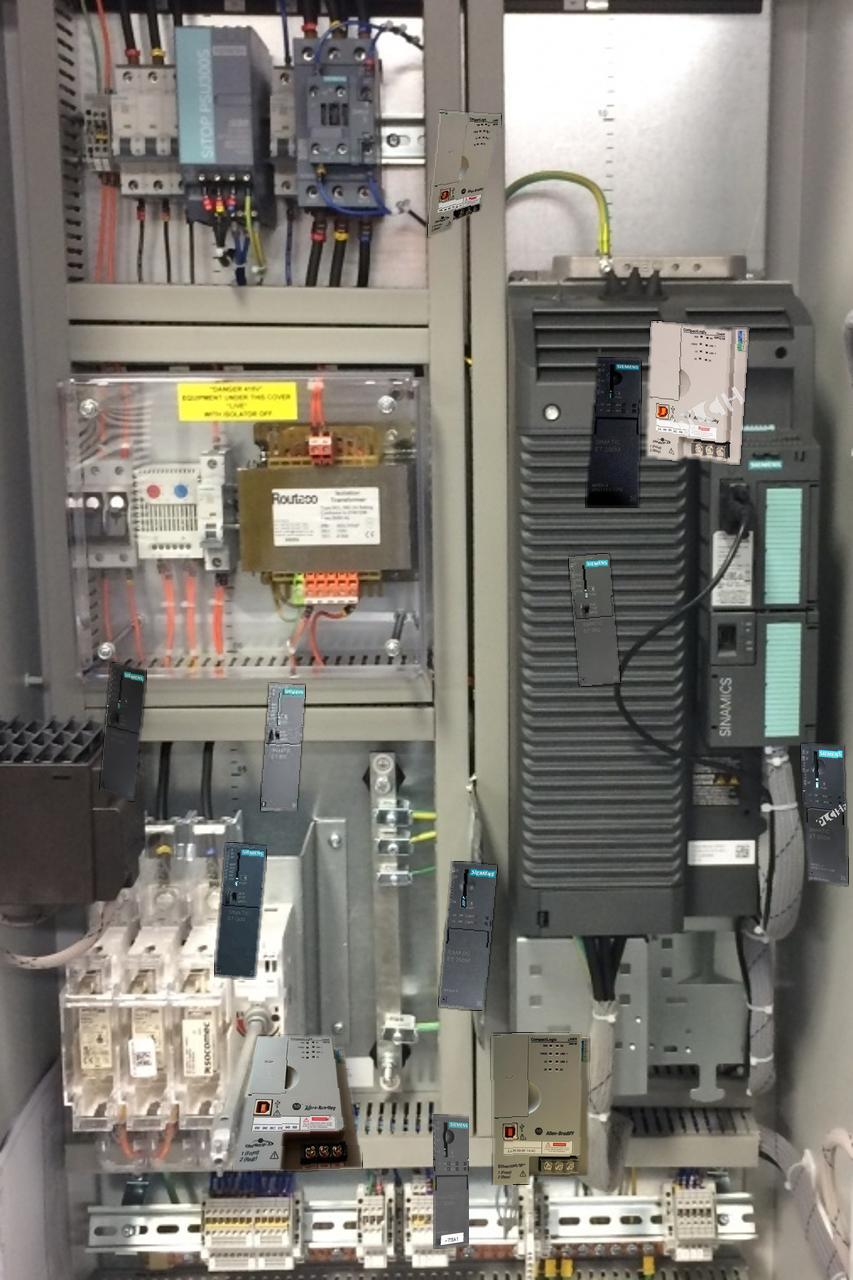AllenBradley: (233, 1036, 361, 1170), (646, 321, 748, 464), (492, 1033, 588, 1184), (428, 111, 500, 236)
Siemens: (214, 843, 266, 977), (568, 554, 620, 685), (100, 663, 145, 800), (261, 684, 304, 810)
